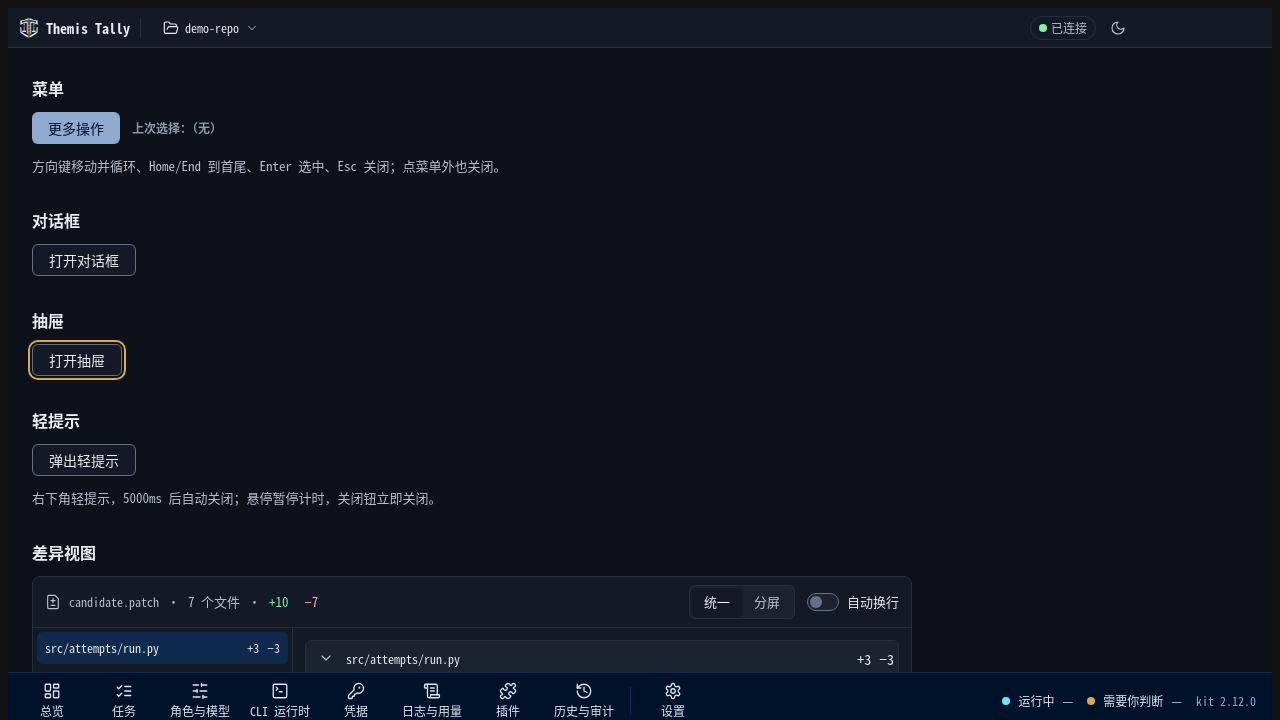
Scenario: 陈列页的 5 节浮层演示 › 抽屉演示：「打开抽屉」出现非模态，Esc 关闭并回触发按钮
(page scrolled)
Click the button "打开抽屉" at (77, 360), box [32, 344, 122, 376]
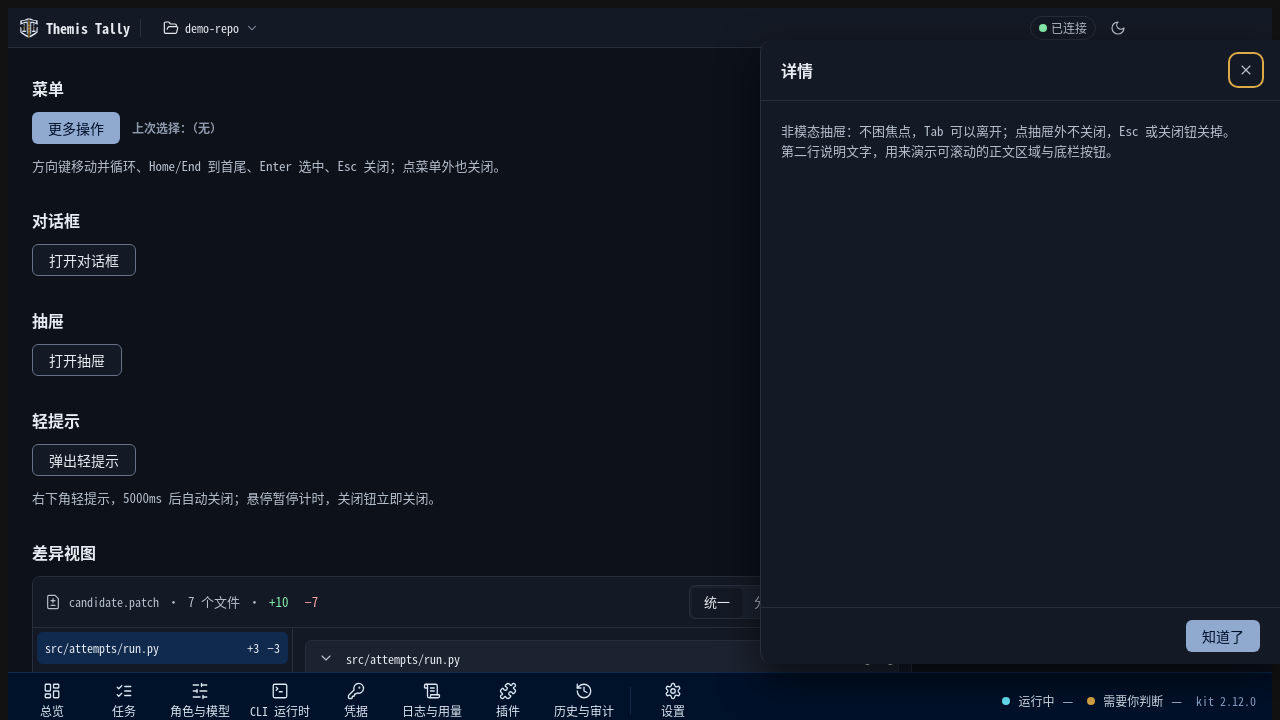
Press Escape in the button named "关闭（Esc）", box [1232, 56, 1260, 84]
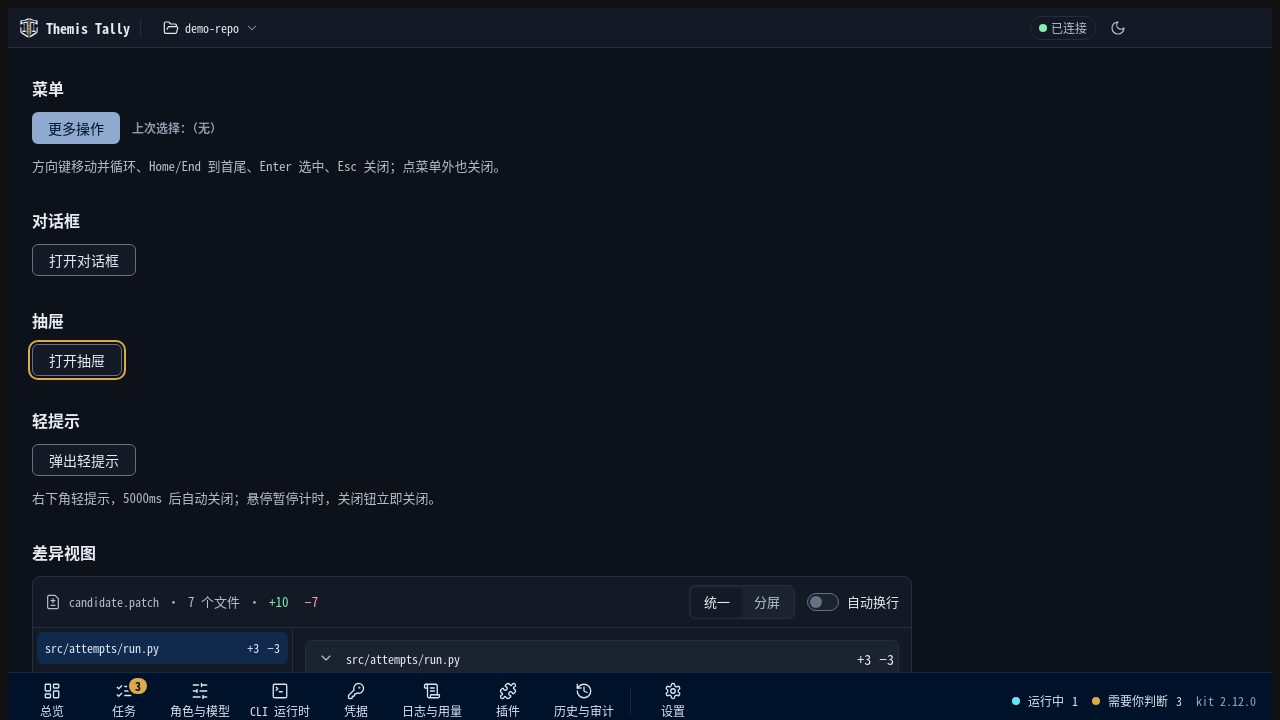
Check: the dialog is gone
